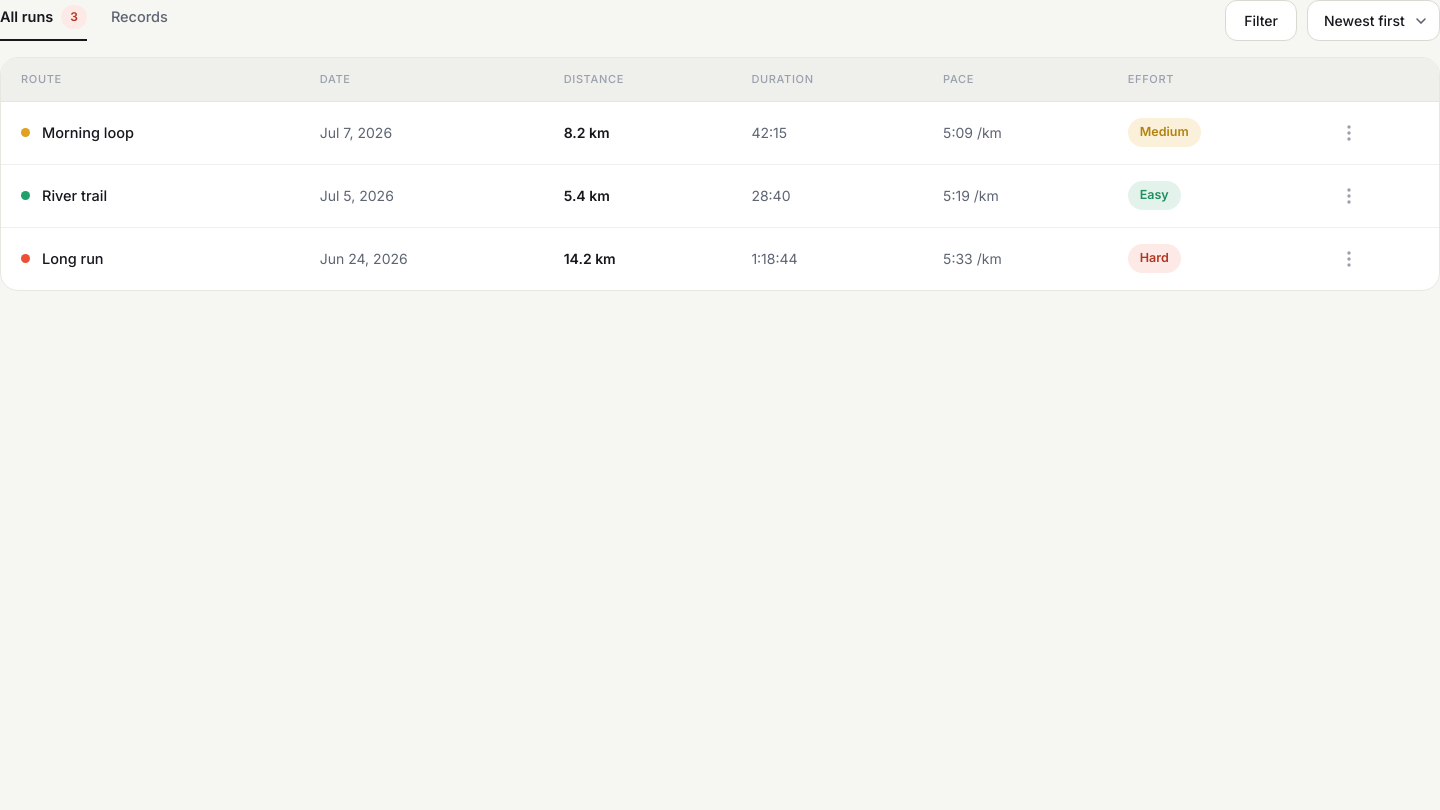
Scenario: Runs view (RUN-24) › opens the Edit run modal from the row menu without navigating (RUN-29)
What coordinates should you click on to do the following:
click the button named "open menu for"
I would click on:
 (1349, 132)
Its box is [1333,116,1365,148].
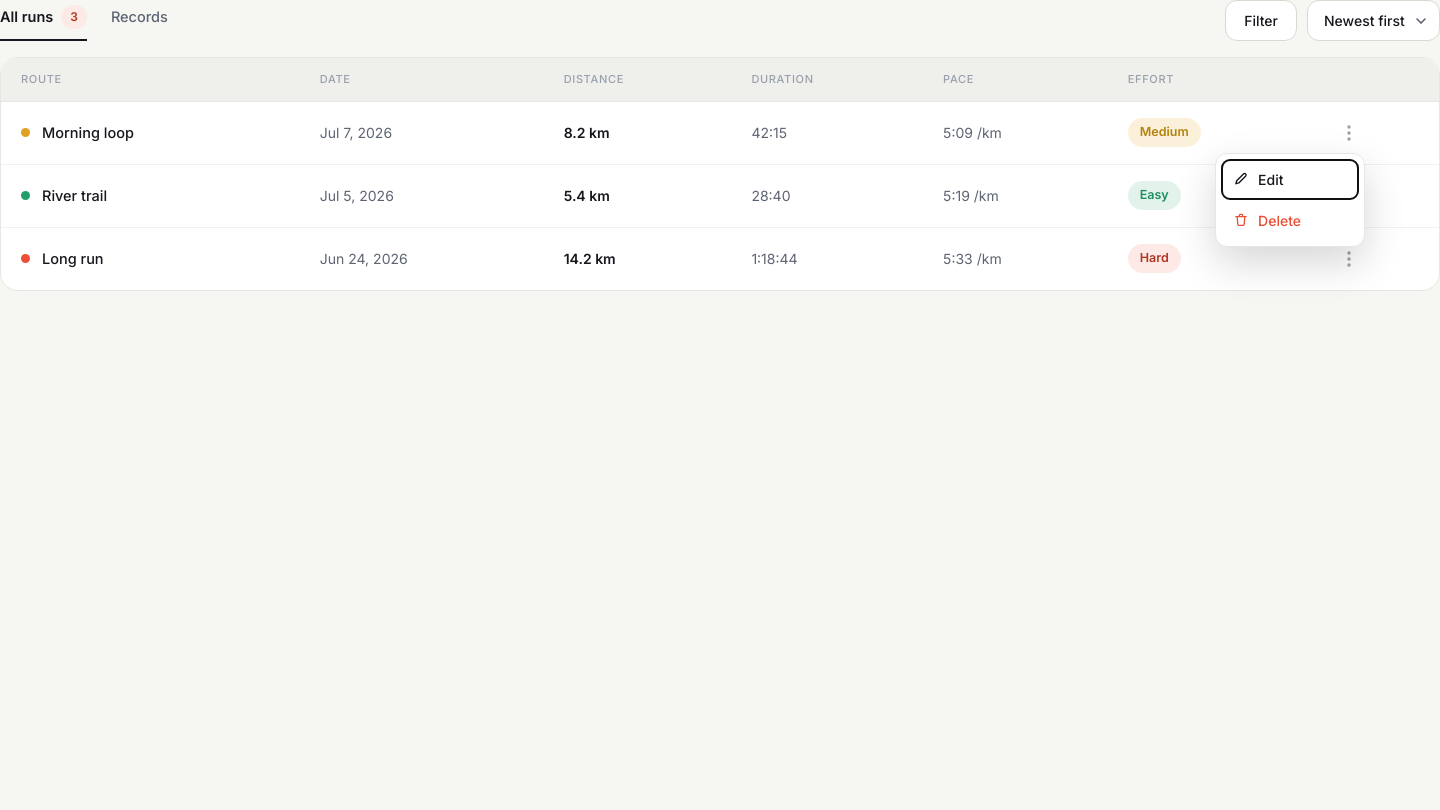
What coordinates should you click on to do the following:
click the menu item "Edit"
I would click on:
 (1290, 179)
Its box is [1222,160,1358,198].
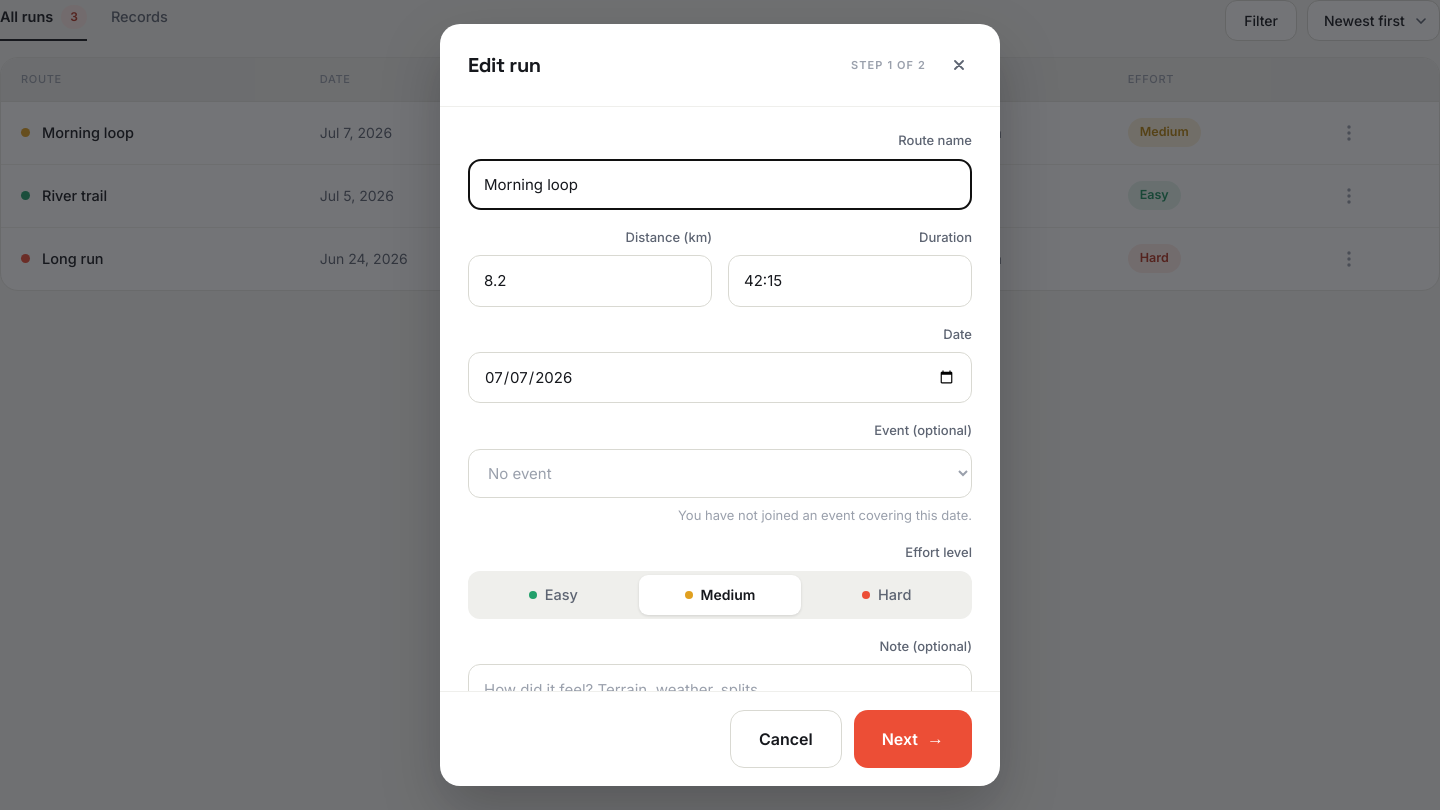
Check: the dialog "Edit run" is shown, box [440,24,1000,786]
Check: the field labelled "Route name" holds "Morning loop", box [468,158,972,210]
